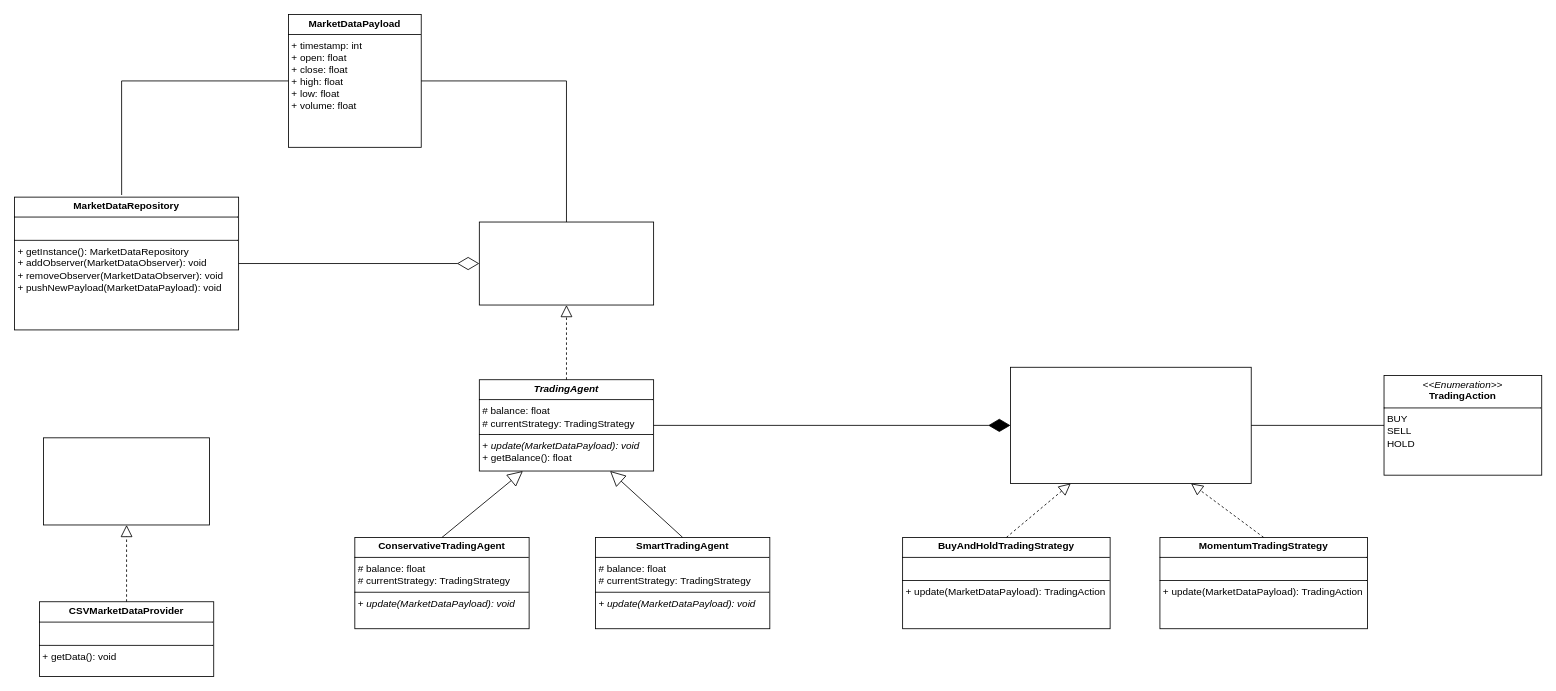
The diagram is 1556 pixels wide and 691 high, and some of its shapes have lost their labels. The centre of each missing label's shape, as x and y in pixels:
<<Interface>> MarketDataObserver + update(MarketDataPayload): void: (x=566, y=263)
<<Interface>> MarketDataProvider + getData(): void: (x=126, y=481)
<<Interface>> TradingStrategy + update(MarketDataPayload): TradingAction: (x=1130, y=424)
